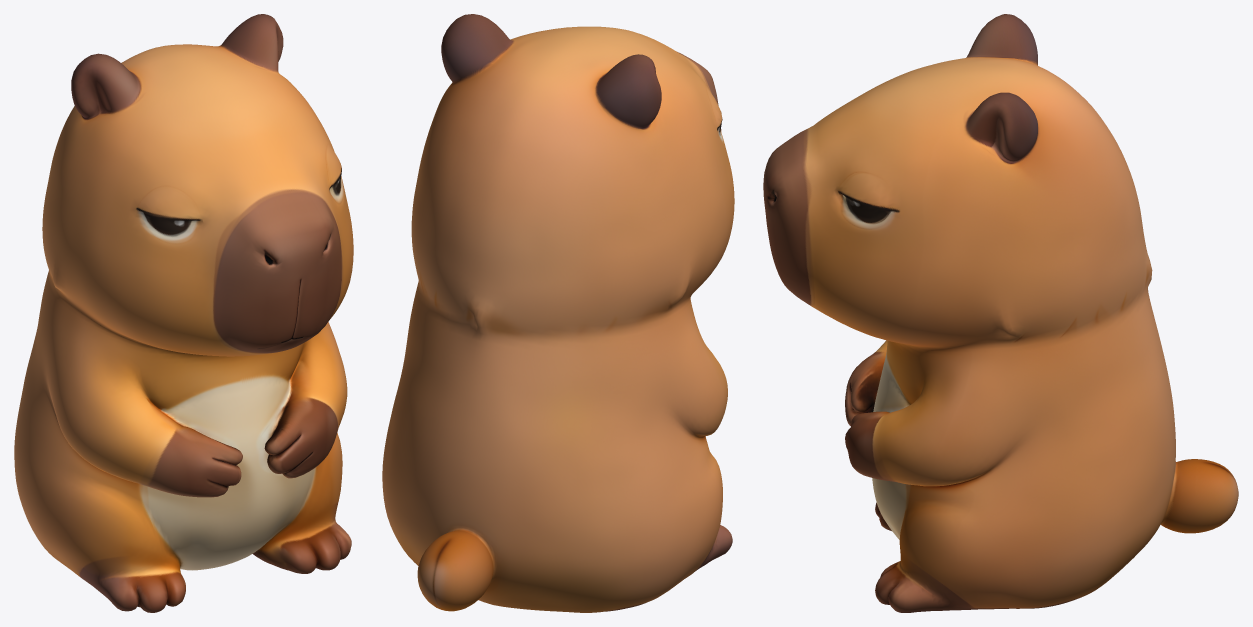
File: capybara.glb
3 renders of one model, left to right at view 1: azimuth 30°, elevation 25°; view 2: azimuth 150°, elevation 25°; view 3: azimuth 270°, elevation 25°, orthographic. The views are drawn at different scales.
Parts seen in each view (by area): view 1: model; view 2: model; view 3: model.
Boxes of the visible parts, left/top/right/bottom form: model: left=14, top=14, right=353, bottom=612; model: left=382, top=14, right=734, bottom=612; model: left=763, top=14, right=1238, bottom=612.
Size of the model in its own units: 1.04 by 1.8 by 1.53.
1 material, 1 textured.
